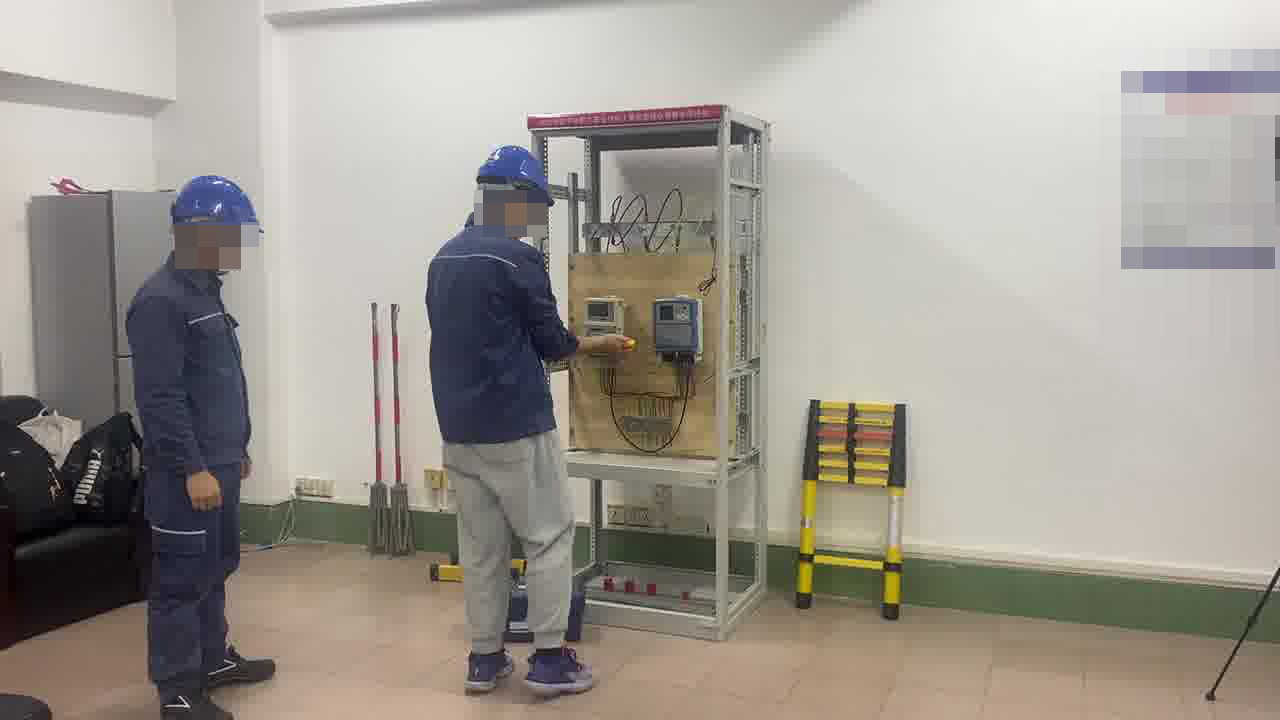downcloth: (441, 457, 577, 652)
downsuit: (143, 483, 245, 690)
halt: (167, 175, 262, 275), (474, 145, 554, 228)
hand: (182, 469, 224, 513)
inear: (180, 218, 227, 262)
noear: (503, 182, 532, 224)
person: (423, 142, 608, 700), (124, 173, 273, 717)
upsuit: (425, 219, 578, 441), (127, 262, 250, 468)
wrongtop: (558, 330, 635, 364)
